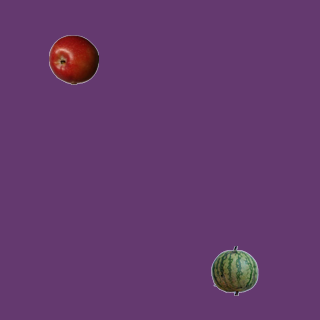Apple Braeburn: (48, 34, 98, 84)
Watermelon: (209, 245, 259, 295)
